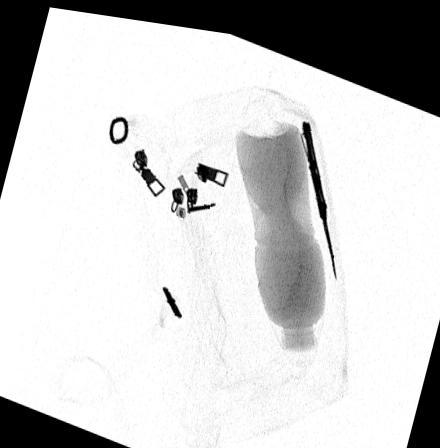Knife: (298, 111, 336, 271)
